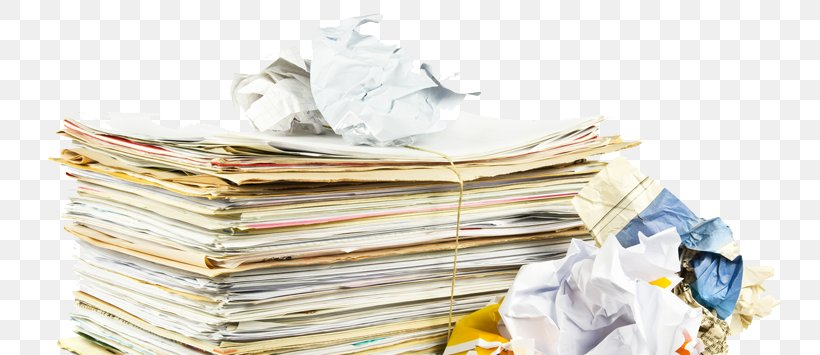paper: (574, 153, 780, 322), (304, 9, 487, 153), (500, 227, 701, 355), (224, 52, 337, 140)
